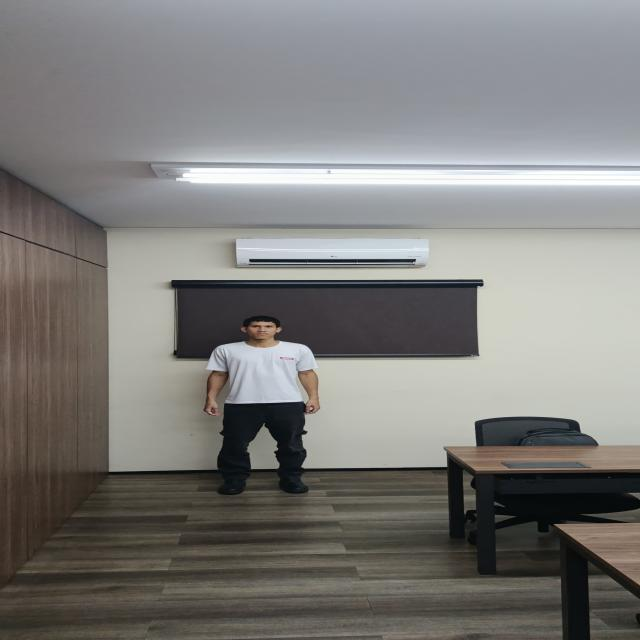sem_oculos: (239, 324, 282, 330)
